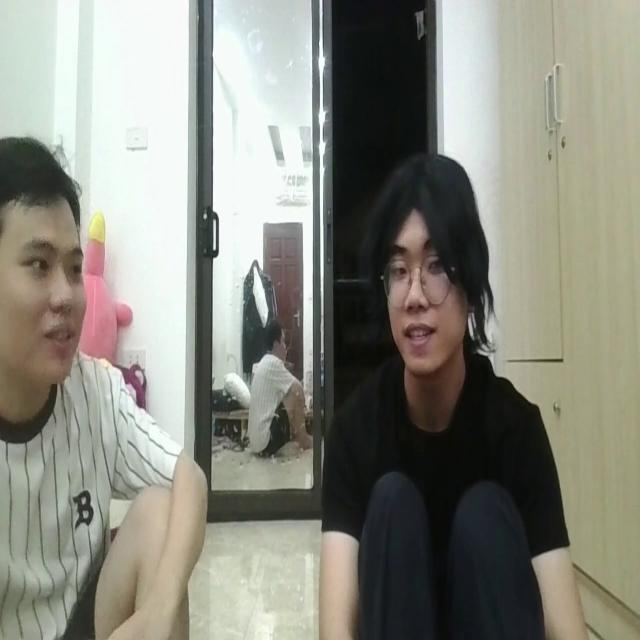extra_person: (0, 127, 208, 640), (250, 315, 310, 455)
student: (322, 162, 590, 640)
